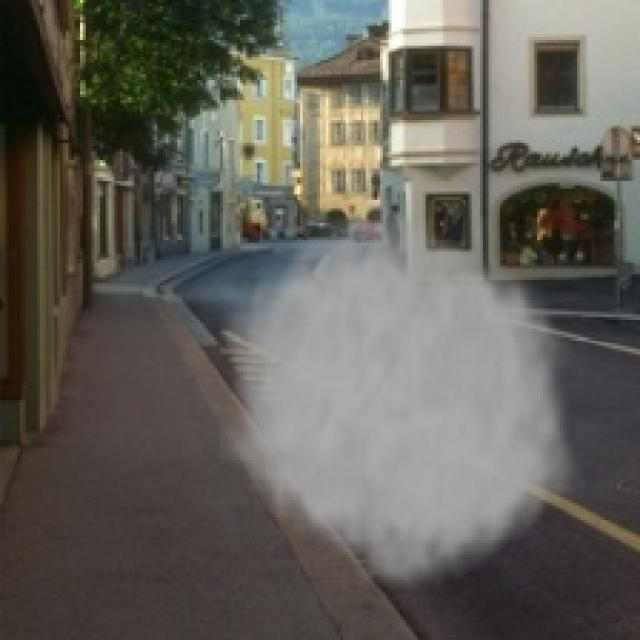Smoke: (220, 191, 589, 600)
